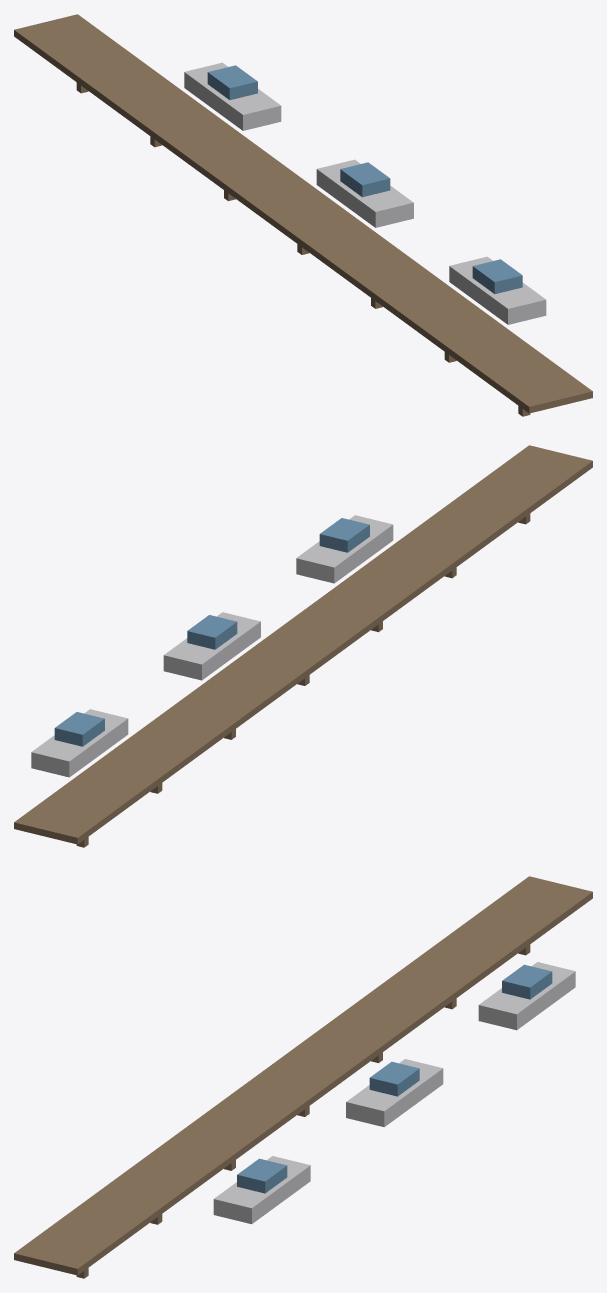
Rendered from pier.glb.
3 renders of one model, top to bottom at view 1: azimuth 30°, elevation 25°; view 2: azimuth 150°, elevation 25°; view 3: azimuth 330°, elevation 25°, orthographic.
Size of the model in its own units: 10 by 3.7 by 70.
